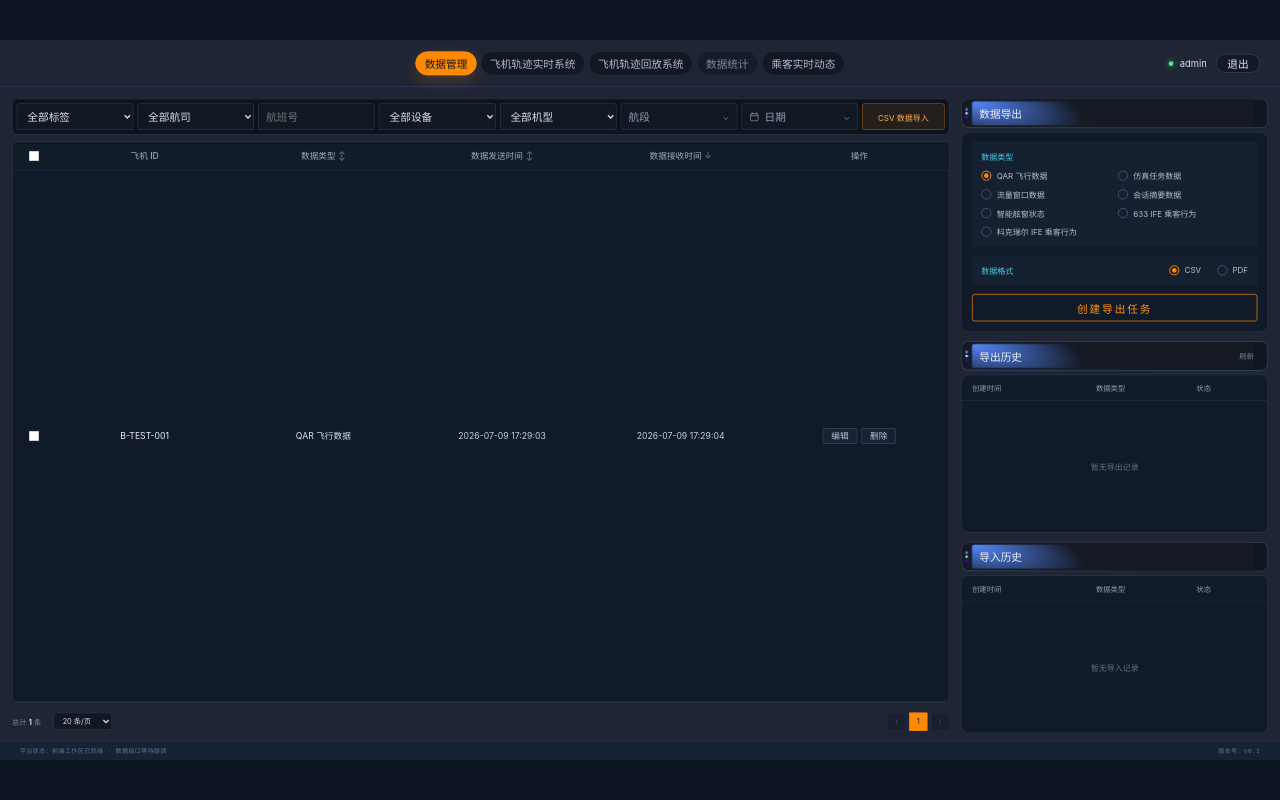
Test: WorkspaceView filters › loads and displays the raw JSON as read-only content in the edit dialog
Click the button with class "row-action" showing "编辑" at (840, 436), box [823,428,857,444]
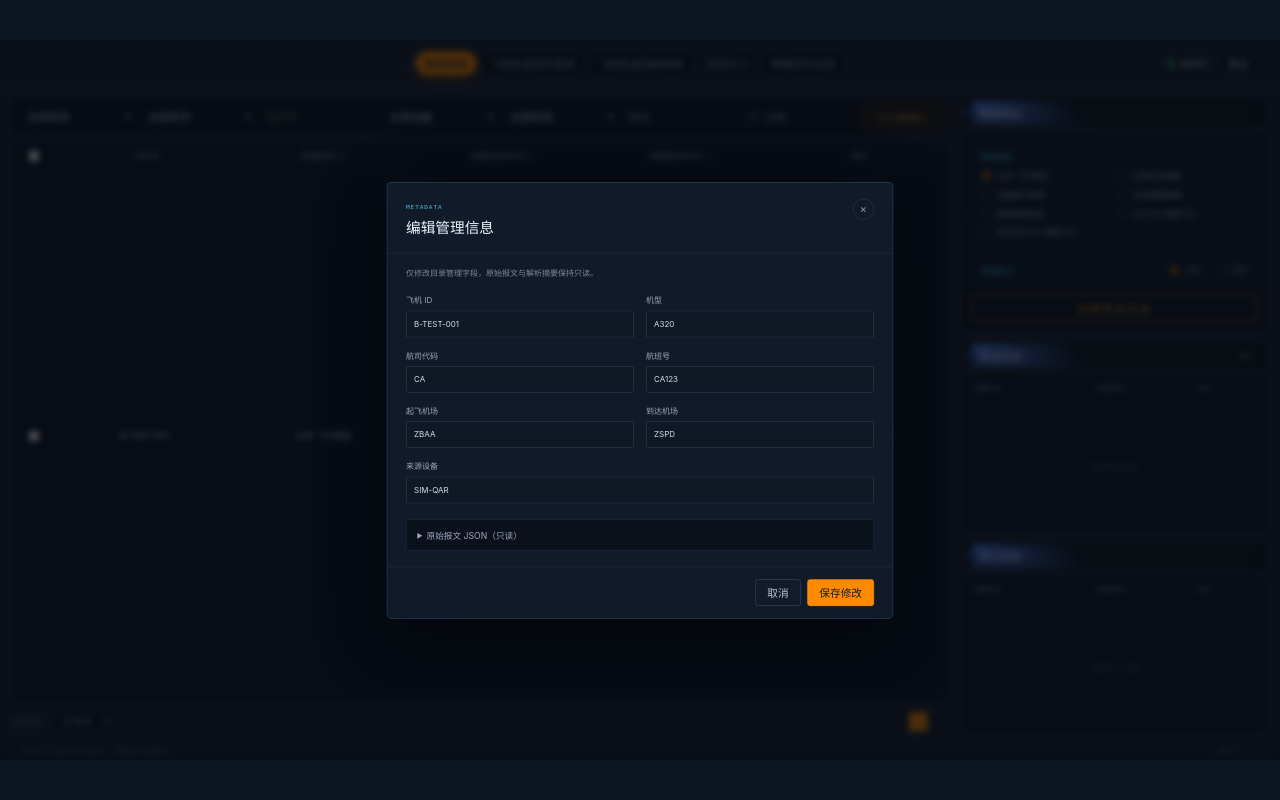
Result: the element with class "edit-payload-section" is shown at [406,519,874,550]
Result: the element with class "edit-payload-section" reads "原始报文 JSON（只读）" at [426,530,522,540]
